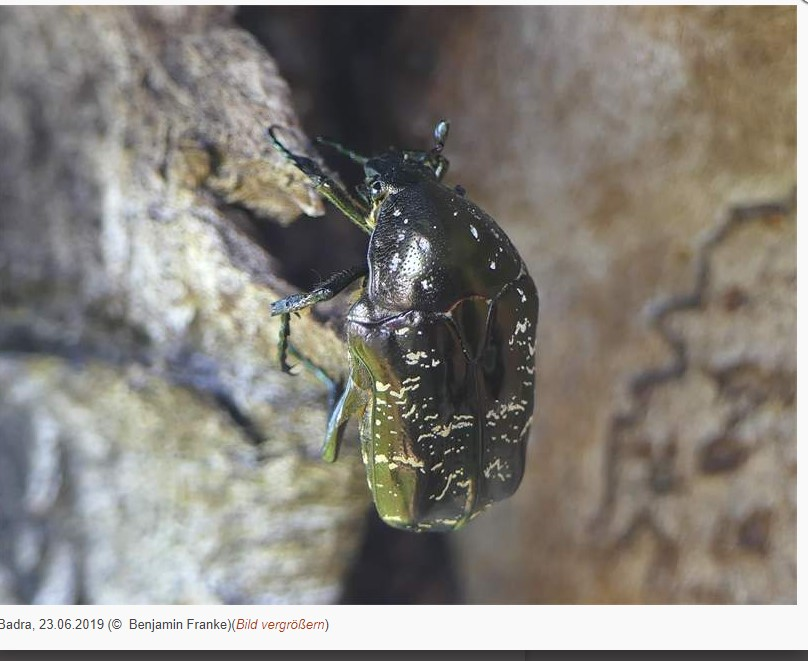Protaetia_lugubris: (250, 106, 542, 539)
